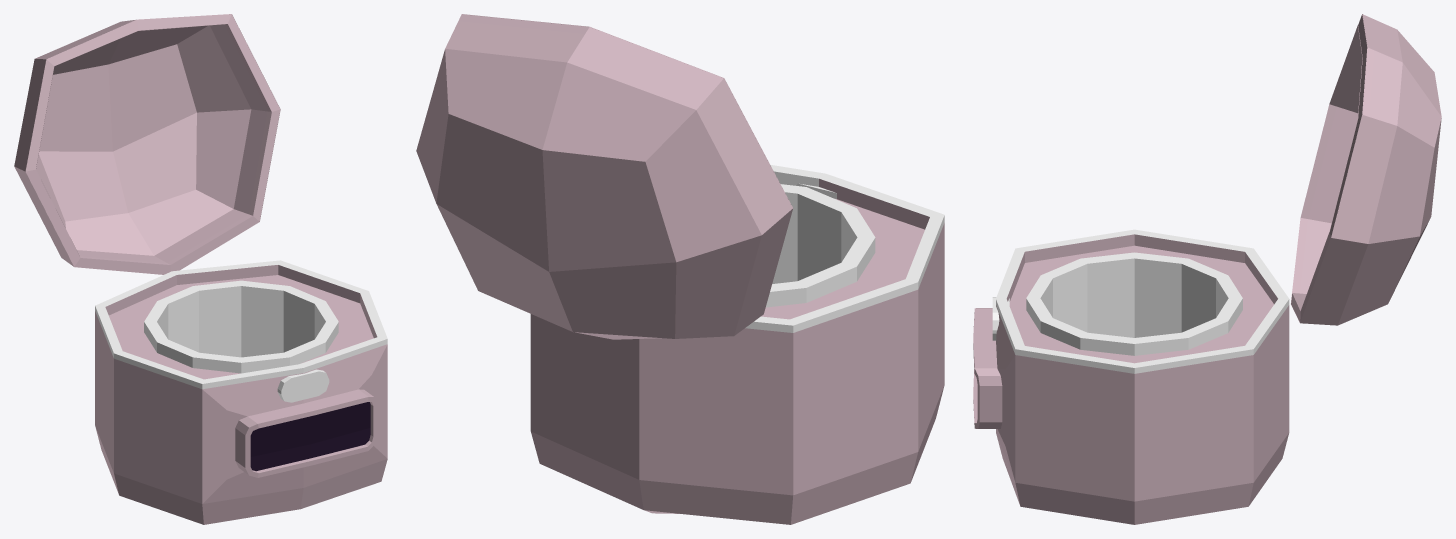
File: rice-cooker.fbx
3 views of the same model, side by side, from view 1: azimuth 30°, elevation 25°; view 2: azimuth 150°, elevation 25°; view 3: azimuth 270°, elevation 25° (orthographic). The views are drawn at different scales.
Visible parts, largest first — view 1: Lid, Rice Cooker, Pot, Middle, Cube; view 2: Lid, Rice Cooker, Pot, Middle; view 3: Rice Cooker, Lid, Pot, Middle.
Boxes of the visible parts, box(x1,y1,x2,y2) form: Lid: box(14, 14, 280, 274); Rice Cooker: box(95, 265, 387, 524); Pot: box(144, 280, 338, 373); Middle: box(95, 260, 387, 389); Cube: box(277, 369, 329, 402); Lid: box(416, 14, 793, 339); Rice Cooker: box(530, 178, 944, 524); Pot: box(765, 184, 875, 307); Middle: box(745, 165, 944, 332); Rice Cooker: box(973, 234, 1289, 524); Lid: box(1290, 14, 1441, 325); Pot: box(1026, 252, 1242, 355); Middle: box(996, 229, 1289, 373).
Bounding box in the file's own units: 26.23 × 37.13 × 37.48.
1 material, 1 textured.
